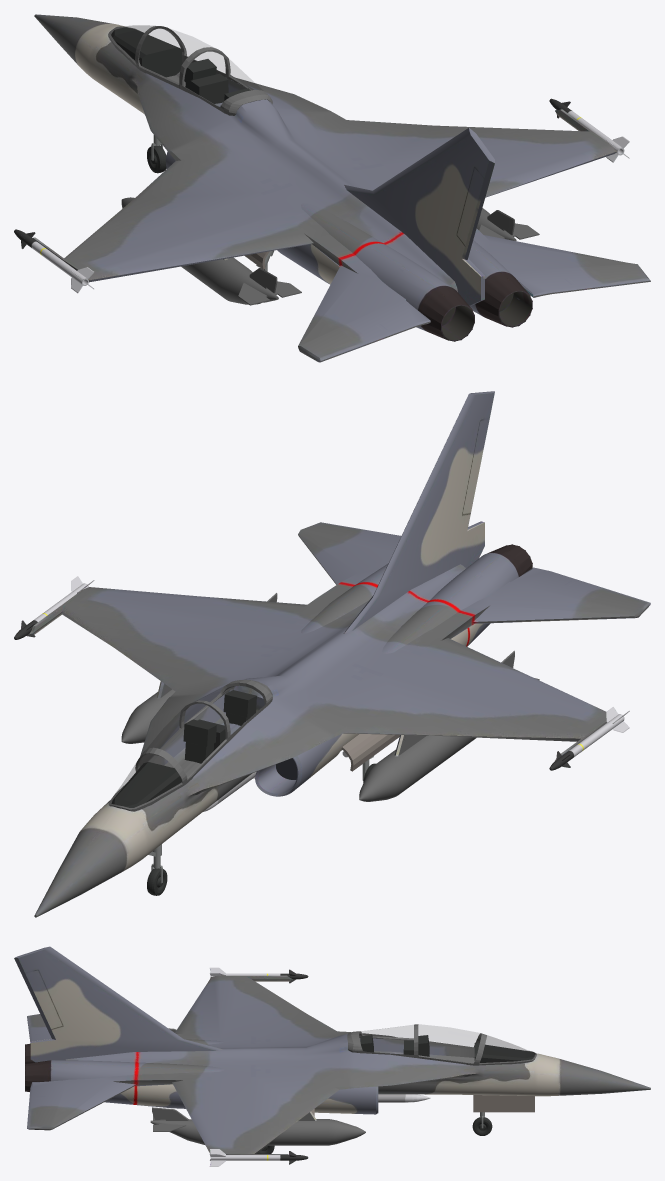
Rendered from type_idf.glb.
The picture shows the model from 3 angles, top to bottom: view 1: azimuth 30°, elevation 25°; view 2: azimuth 150°, elevation 25°; view 3: azimuth 270°, elevation 25°; orthographic projection. The views are drawn at different scales.
Parts seen in each view (by area): view 1: Object_9, Object_11, Object_12, Object_10, Object_13, Object_8; view 2: Object_9, Object_12, Object_11, Object_10, Object_13, Object_8; view 3: Object_9, Object_11, Object_12, Object_10, Object_13, Object_8, Object_14.
Part boxes in pixels (left/top/right/bottom): Object_9: left=32, top=14, right=650, bottom=362; Object_11: left=344, top=128, right=494, bottom=305; Object_12: left=108, top=26, right=539, bottom=305; Object_10: left=166, top=151, right=532, bottom=341; Object_13: left=109, top=25, right=261, bottom=89; Object_8: left=14, top=98, right=629, bottom=293; Object_9: left=29, top=522, right=650, bottom=917; Object_12: left=108, top=593, right=539, bottom=895; Object_11: left=343, top=391, right=494, bottom=633; Object_10: left=255, top=544, right=532, bottom=796; Object_13: left=109, top=687, right=222, bottom=808; Object_8: left=14, top=576, right=629, bottom=770; Object_9: left=27, top=975, right=650, bottom=1154; Object_11: left=14, top=946, right=222, bottom=1062; Object_12: left=150, top=1024, right=536, bottom=1153; Object_10: left=25, top=1039, right=378, bottom=1114; Object_13: left=362, top=1025, right=536, bottom=1063; Object_8: left=209, top=967, right=308, bottom=1166; Object_14: left=378, top=1094, right=430, bottom=1102.
Size of the model in its own units: 9.85 by 4.66 by 14.2.
Materials: 7 (7 with a texture image).
